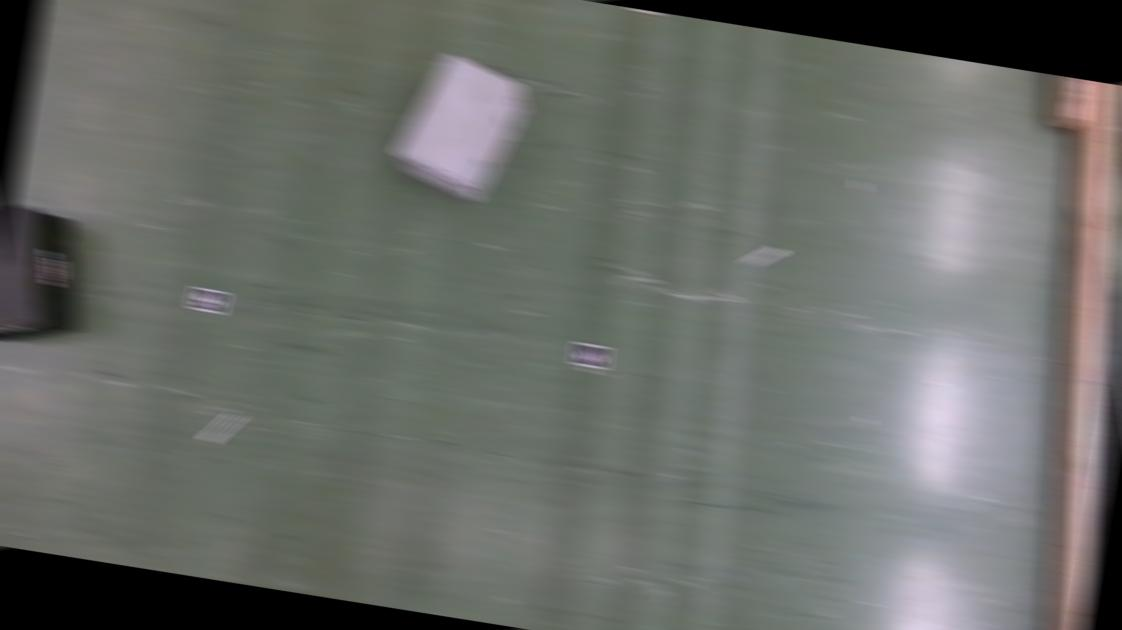probes: (202, 410, 241, 448), (746, 242, 784, 272)
rako: (386, 48, 534, 210), (0, 201, 97, 353)
